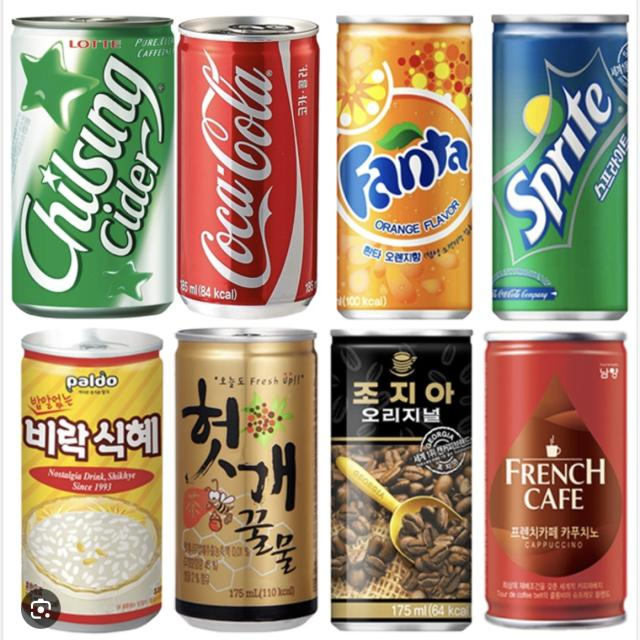recyclable: (7, 10, 178, 319), (319, 322, 484, 637), (166, 5, 328, 319), (164, 319, 320, 635), (484, 3, 634, 327), (330, 6, 476, 322), (478, 326, 629, 628)
